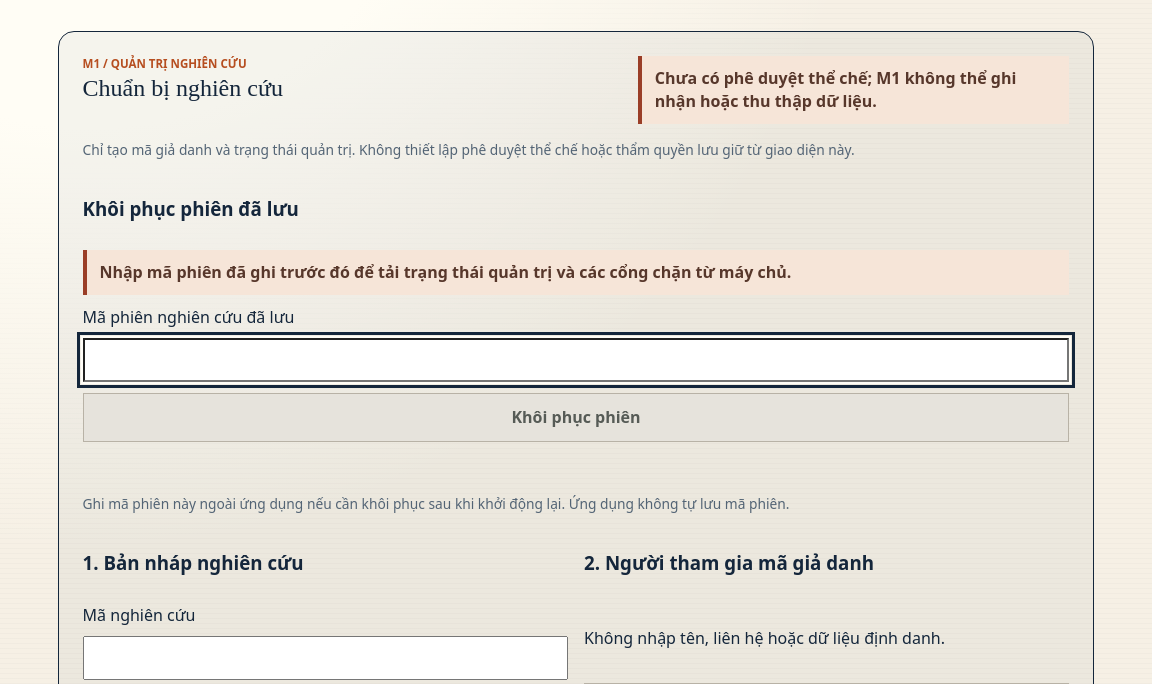
Test: M1 persisted research-session recovery › keeps a missing recovered resource scoped instead of declaring M1 unavailable
(page scrolled)
Step 1. Type "research-oDUliIaM2hjS_xIg" into the field labelled "Mã phiên nghiên cứu đã lưu" → x=576, y=360, box left=83, top=338, right=1069, bottom=382
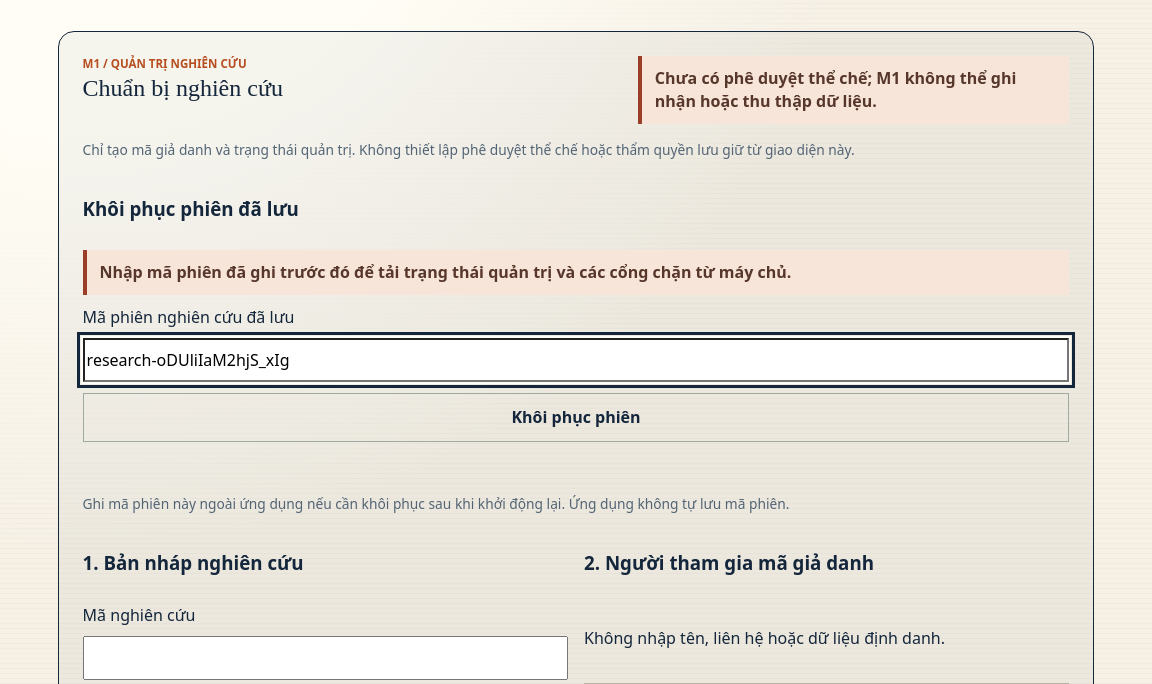
Step 2. Click the button "Khôi phục phiên" → x=576, y=417, box left=83, top=393, right=1069, bottom=442
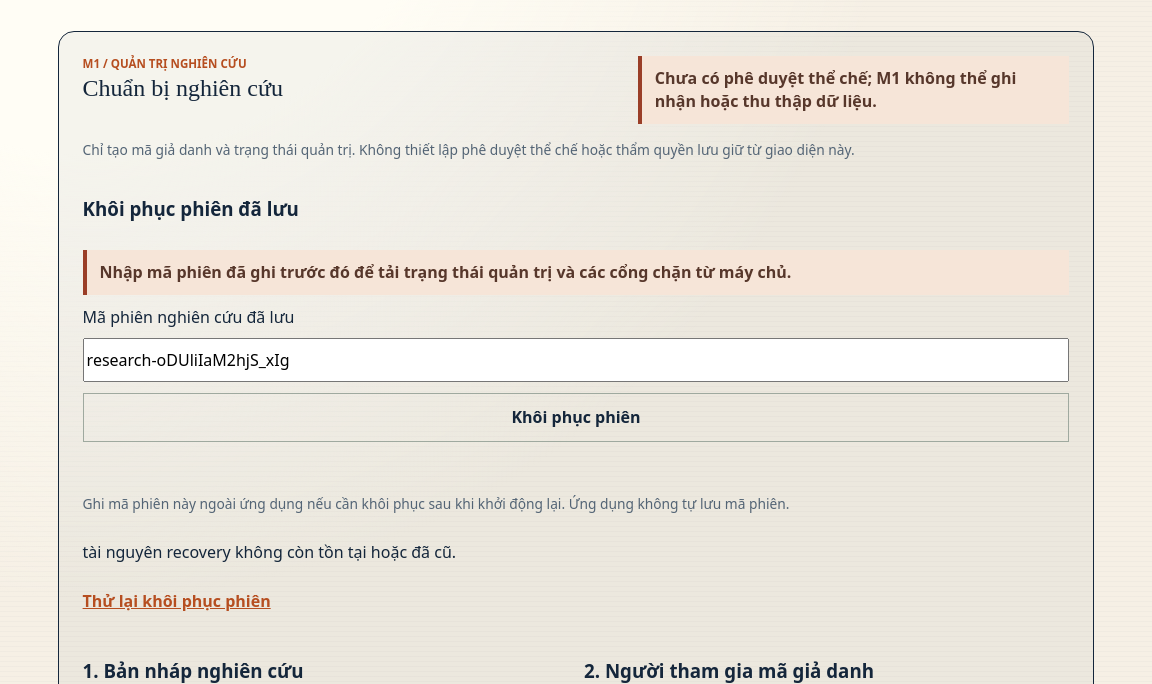
Now the message shows "tài nguyên recovery không còn tồn tại hoặc đã cũ", box left=83, top=541, right=456, bottom=563
